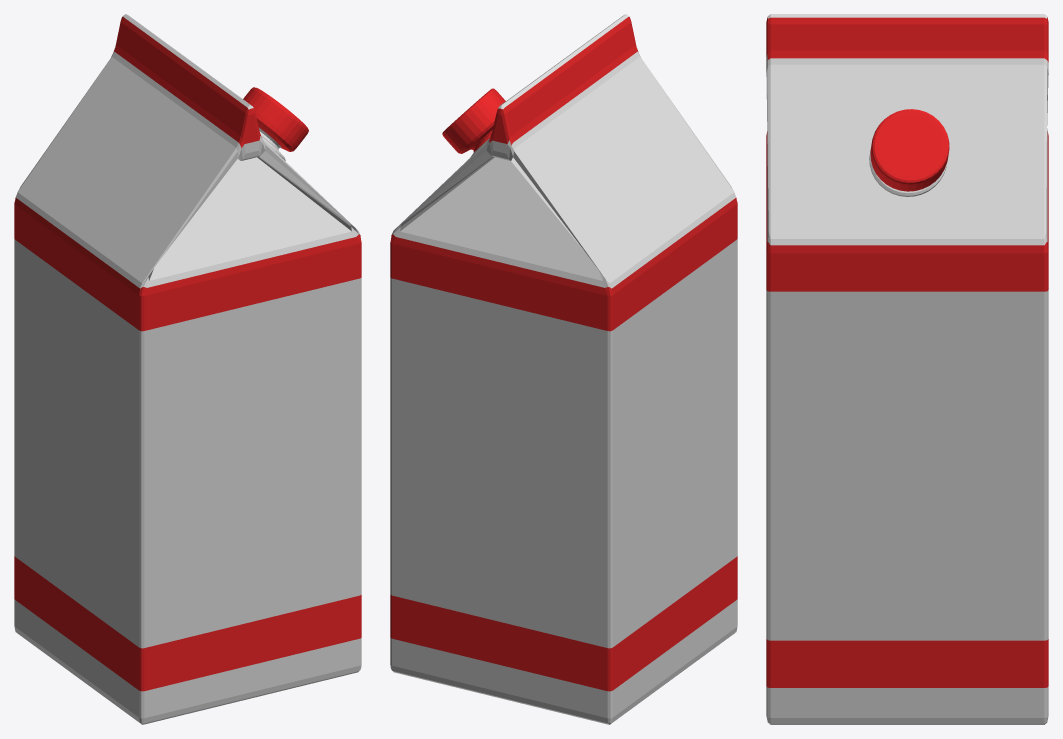
File: MilkCarton.fbx
The picture shows the model from 3 angles, left to right: view 1: azimuth 30°, elevation 25°; view 2: azimuth 150°, elevation 25°; view 3: azimuth 270°, elevation 25°; orthographic projection. The views are drawn at different scales.
Parts seen in each view (by area): view 1: Cube, Cylinder; view 2: Cube, Cylinder; view 3: Cube, Cylinder.
Boxes of the visible parts, <box> form: Cube: <box>14,14,361,724</box>; Cylinder: <box>243,87,308,160</box>; Cube: <box>390,14,737,724</box>; Cylinder: <box>442,88,505,157</box>; Cube: <box>766,14,1048,724</box>; Cylinder: <box>869,109,949,196</box>.
Size of the model in its own units: 76.38 by 192 by 75.
